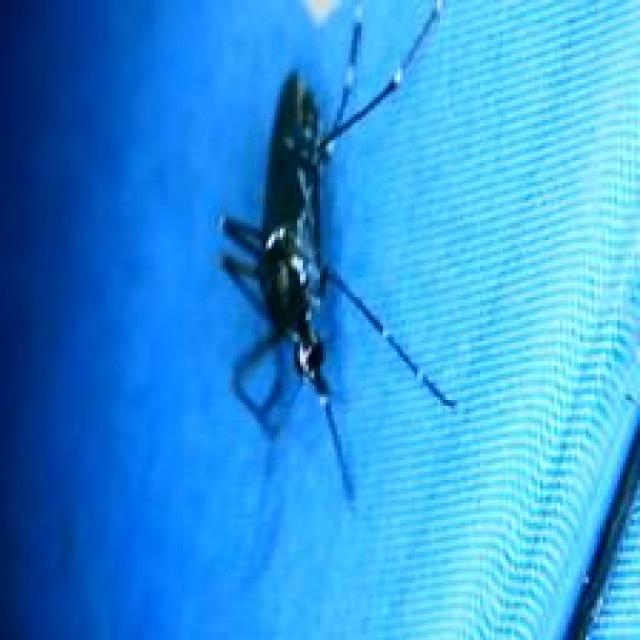Aedes albopictus: (216, 0, 461, 506)
